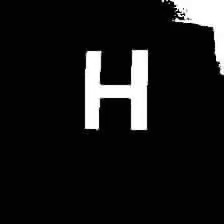LTR_H: (73, 44, 158, 136)
